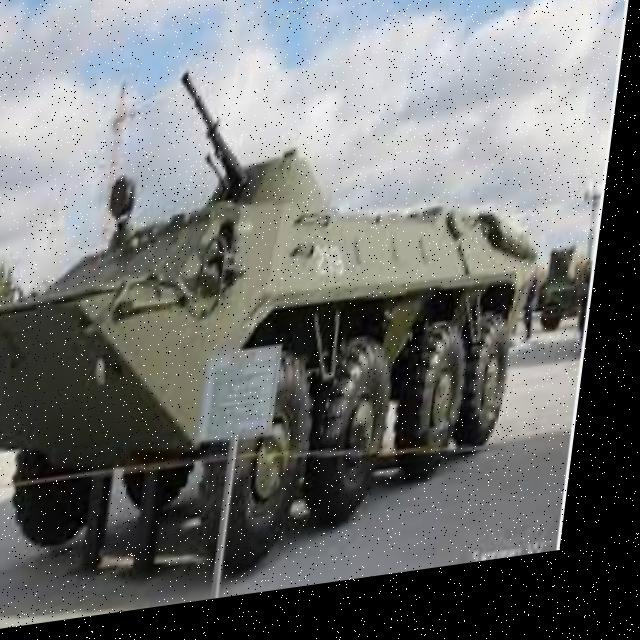MIL_APC: (0, 130, 587, 606)
